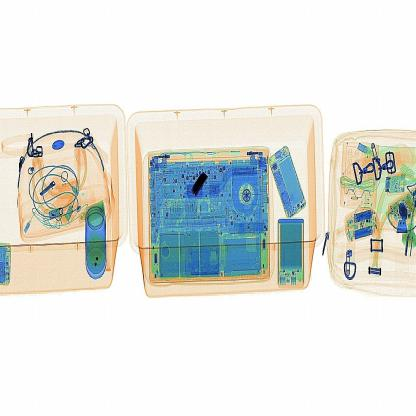scissors: (186, 164, 214, 212)
